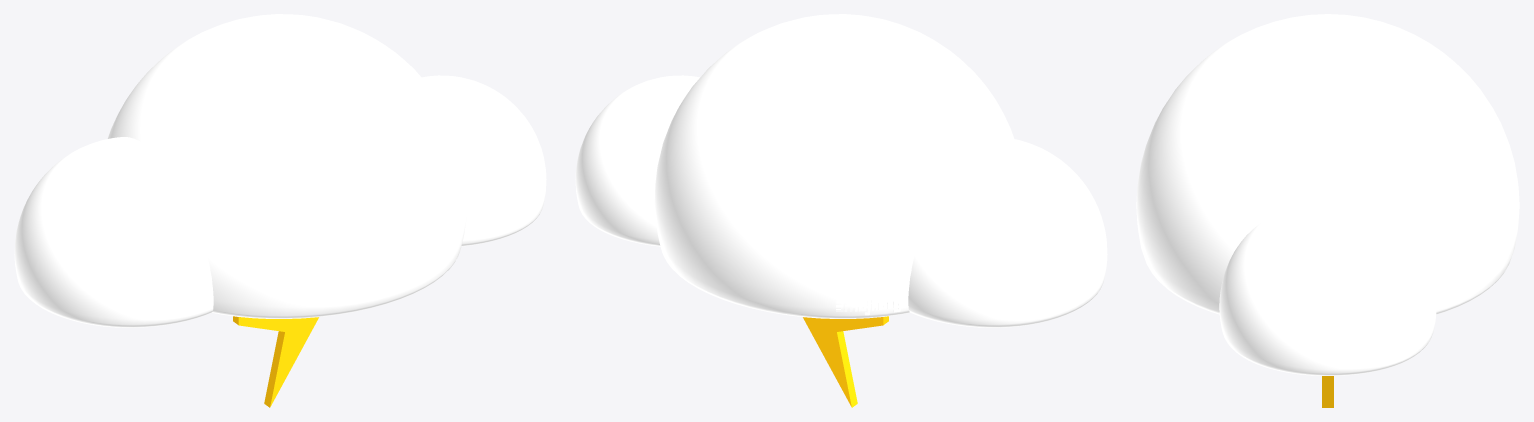
Rendered from cloud_with_lightning.gltf.
3 renders of one model, left to right at view 1: azimuth 30°, elevation 25°; view 2: azimuth 150°, elevation 25°; view 3: azimuth 270°, elevation 25°, orthographic. The views are drawn at different scales.
Parts seen in each view (by area): view 1: Cube.210; view 2: Cube.210; view 3: Cube.210.
Part boxes in pixels (x1=…): Cube.210: x1=14, y1=14, x2=546, y2=407; Cube.210: x1=575, y1=14, x2=1107, y2=407; Cube.210: x1=1136, y1=14, x2=1519, y2=407.
Size of the model in its own units: 2.15 by 1.51 by 1.37.
Materials: 1 (1 with a texture image).
